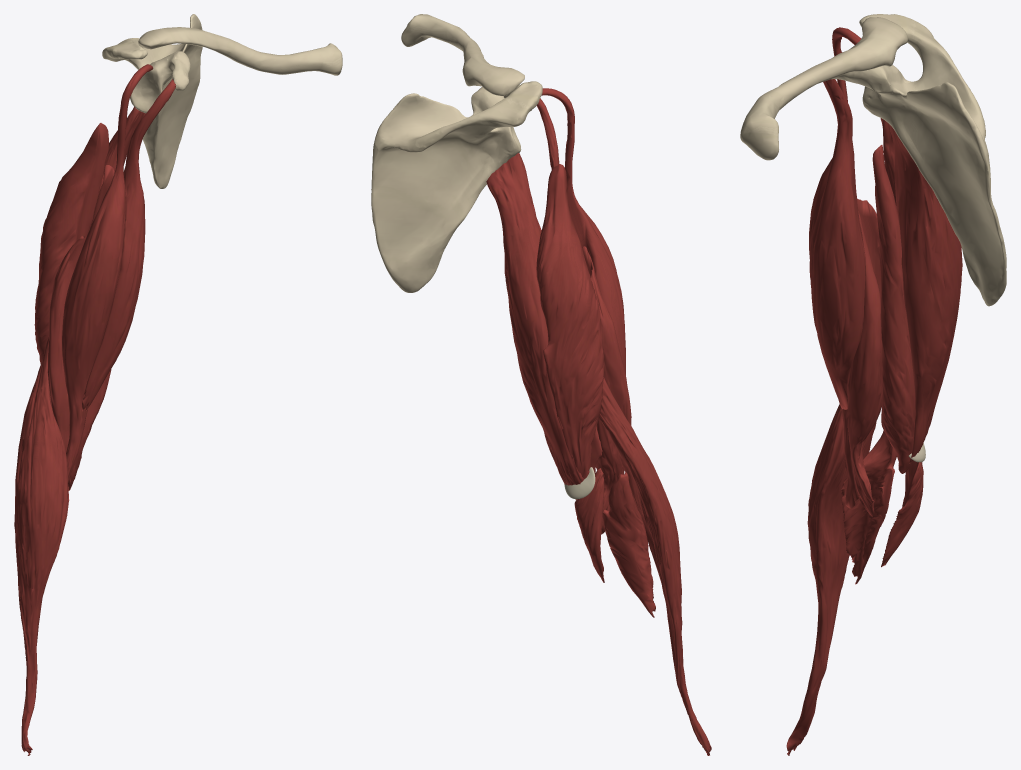
Rendered from elbow_r.context.glb.
3 renders of one model, left to right at view 1: azimuth 30°, elevation 25°; view 2: azimuth 150°, elevation 25°; view 3: azimuth 270°, elevation 25°, orthographic. The views are drawn at different scales.
Parts seen in each view (by area): view 1: elbow_r__context__brachioradialis__mesh, elbow_r__context__biceps_brachii_long_head__mesh, elbow_r__context__scapula__mesh, elbow_r__context__triceps_brachii_lateral_head__mesh, elbow_r__context__biceps_brachii_short_head__mesh, elbow_r__context__clavicle__mesh, elbow_r__context__brachialis__mesh, elbow_r__context__triceps_brachii_long_head__mesh; view 2: elbow_r__context__scapula__mesh, elbow_r__context__triceps_brachii_lateral_head__mesh, elbow_r__context__triceps_brachii_long_head__mesh, elbow_r__context__brachioradialis__mesh, elbow_r__context__supinator__mesh, elbow_r__context__biceps_brachii_long_head__mesh, elbow_r__context__brachialis__mesh, elbow_r__context__clavicle__mesh, elbow_r__context__anconeus__mesh, elbow_r__context__biceps_brachii_short_head__mesh; view 3: elbow_r__context__scapula__mesh, elbow_r__context__triceps_brachii_long_head__mesh, elbow_r__context__biceps_brachii_short_head__mesh, elbow_r__context__brachioradialis__mesh, elbow_r__context__triceps_brachii_medial_head__mesh, elbow_r__context__brachialis__mesh, elbow_r__context__clavicle__mesh, elbow_r__context__supinator__mesh, elbow_r__context__biceps_brachii_long_head__mesh, elbow_r__context__anconeus__mesh, elbow_r__context__triceps_brachii_lateral_head__mesh.
Part boxes in pixels (<box>): elbow_r__context__brachioradialis__mesh: <box>14,337,69,755</box>; elbow_r__context__biceps_brachii_long_head__mesh: <box>62,64,153,482</box>; elbow_r__context__scapula__mesh: <box>102,14,202,188</box>; elbow_r__context__triceps_brachii_lateral_head__mesh: <box>34,123,108,363</box>; elbow_r__context__biceps_brachii_short_head__mesh: <box>82,79,175,411</box>; elbow_r__context__clavicle__mesh: <box>138,27,342,75</box>; elbow_r__context__brachialis__mesh: <box>47,235,111,490</box>; elbow_r__context__triceps_brachii_long_head__mesh: <box>98,106,145,197</box>; elbow_r__context__scapula__mesh: <box>371,81,542,292</box>; elbow_r__context__triceps_brachii_lateral_head__mesh: <box>536,164,604,479</box>; elbow_r__context__triceps_brachii_long_head__mesh: <box>486,153,583,485</box>; elbow_r__context__brachioradialis__mesh: <box>599,377,711,755</box>; elbow_r__context__supinator__mesh: <box>602,472,655,617</box>; elbow_r__context__biceps_brachii_long_head__mesh: <box>541,88,625,374</box>; elbow_r__context__brachialis__mesh: <box>582,246,631,534</box>; elbow_r__context__clavicle__mesh: <box>401,14,524,95</box>; elbow_r__context__anconeus__mesh: <box>574,468,604,582</box>; elbow_r__context__biceps_brachii_short_head__mesh: <box>536,98,559,169</box>; elbow_r__context__scapula__mesh: <box>831,14,1006,306</box>; elbow_r__context__triceps_brachii_long_head__mesh: <box>889,124,962,463</box>; elbow_r__context__biceps_brachii_short_head__mesh: <box>809,79,865,409</box>; elbow_r__context__brachioradialis__mesh: <box>786,404,876,755</box>; elbow_r__context__triceps_brachii_medial_head__mesh: <box>872,145,915,473</box>; elbow_r__context__brachialis__mesh: <box>847,198,882,516</box>; elbow_r__context__clavicle__mesh: <box>740,17,907,160</box>; elbow_r__context__supinator__mesh: <box>841,430,896,584</box>; elbow_r__context__biceps_brachii_long_head__mesh: <box>809,27,861,508</box>; elbow_r__context__anconeus__mesh: <box>881,460,923,567</box>; elbow_r__context__triceps_brachii_lateral_head__mesh: <box>880,118,896,205</box>.
Size of the model in its own units: 0.2786 by 0.5648 by 0.1633.
Materials: 3 (3 with a texture image).
